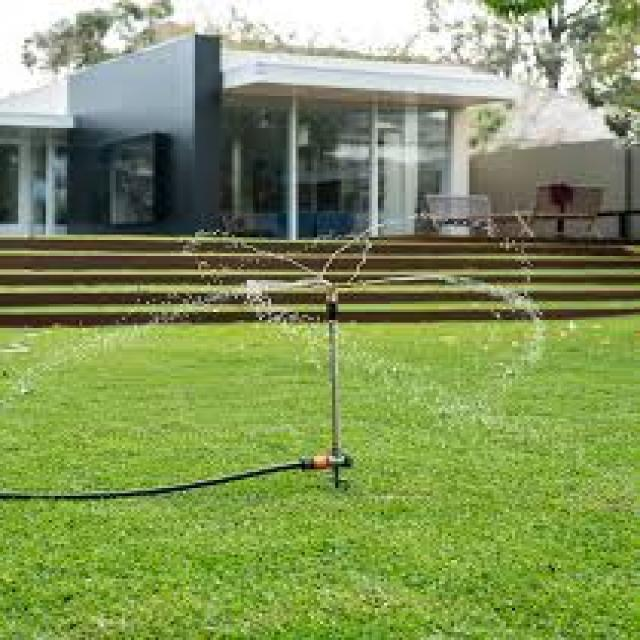lawn: (0, 316, 640, 640), (0, 322, 330, 491)
